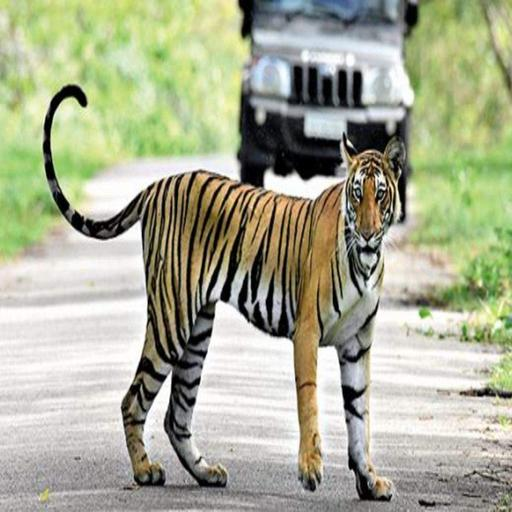Tiger: (42, 67, 422, 512)
